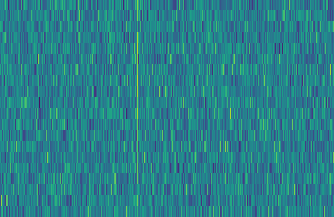signal: (131, 0, 140, 217)
